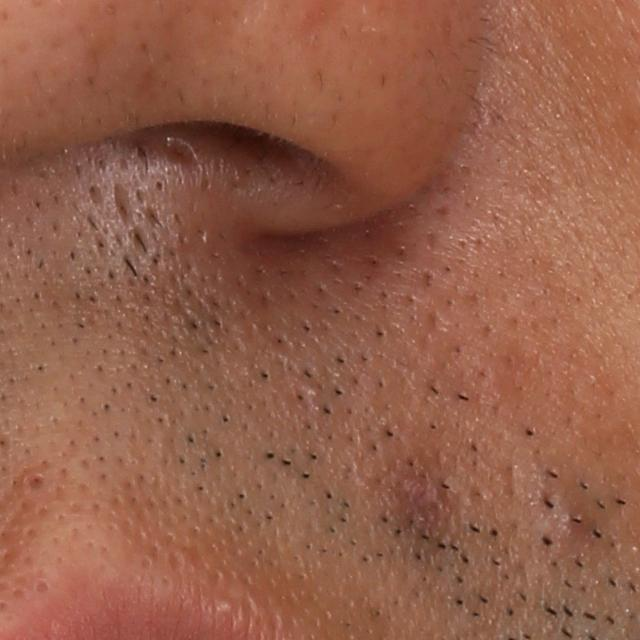comedo: (551, 492, 597, 540), (20, 472, 45, 496)
